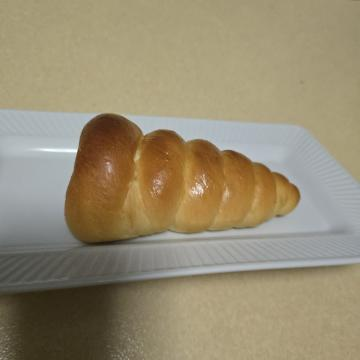cream horn: (99, 46, 278, 311)
